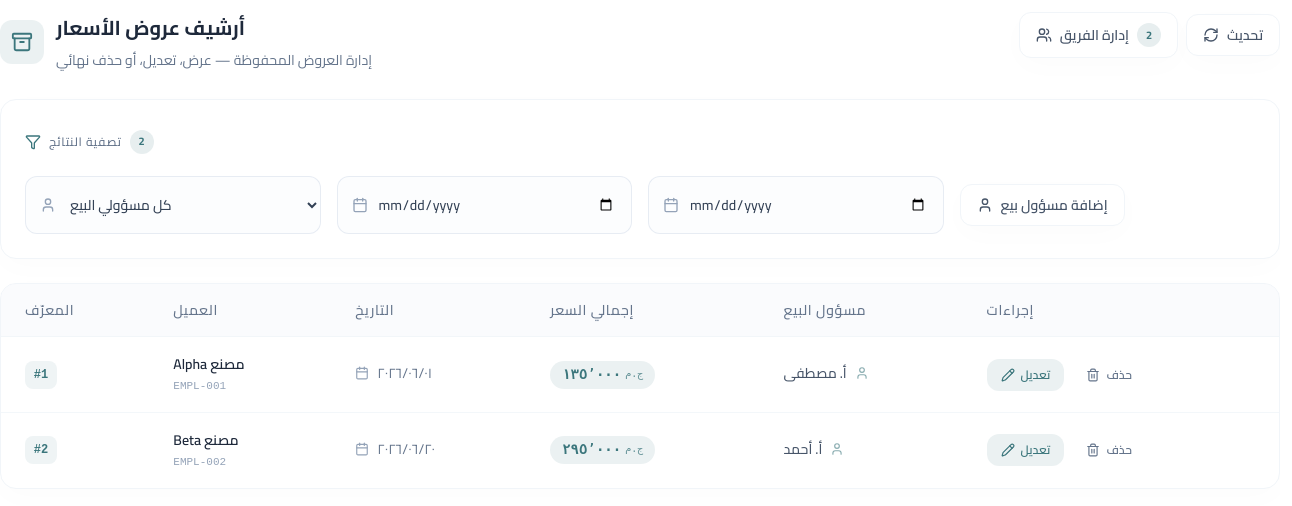
Test: ArchivedQuotesList filtering › shows clear filters control when filters are active
Expected: the text "مصنع Alpha" is shown, [173,351,245,377]
Select "أ. أحمد" in the dropdown named "مسؤول البيع" at (173, 205), box [26,177,320,233]
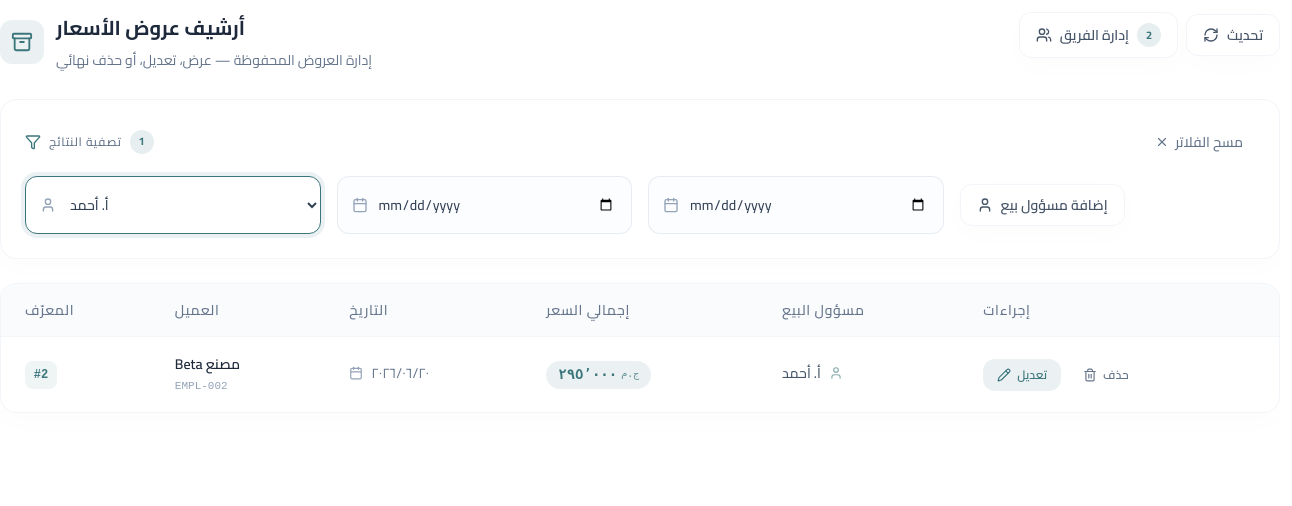
Click the button "مسح الفلاتر" at (1199, 142), box [1143,124,1255,160]
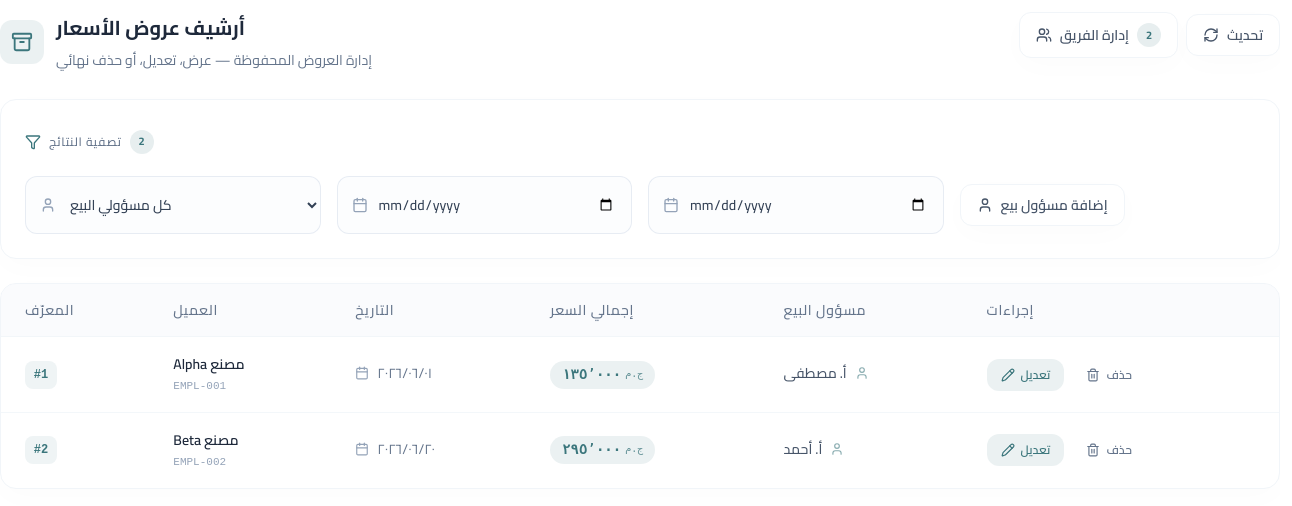
Expected: the text "مصنع Beta" is shown, [173,427,238,453]
Now the text "مصنع Alpha" is shown, box [173,351,245,377]
